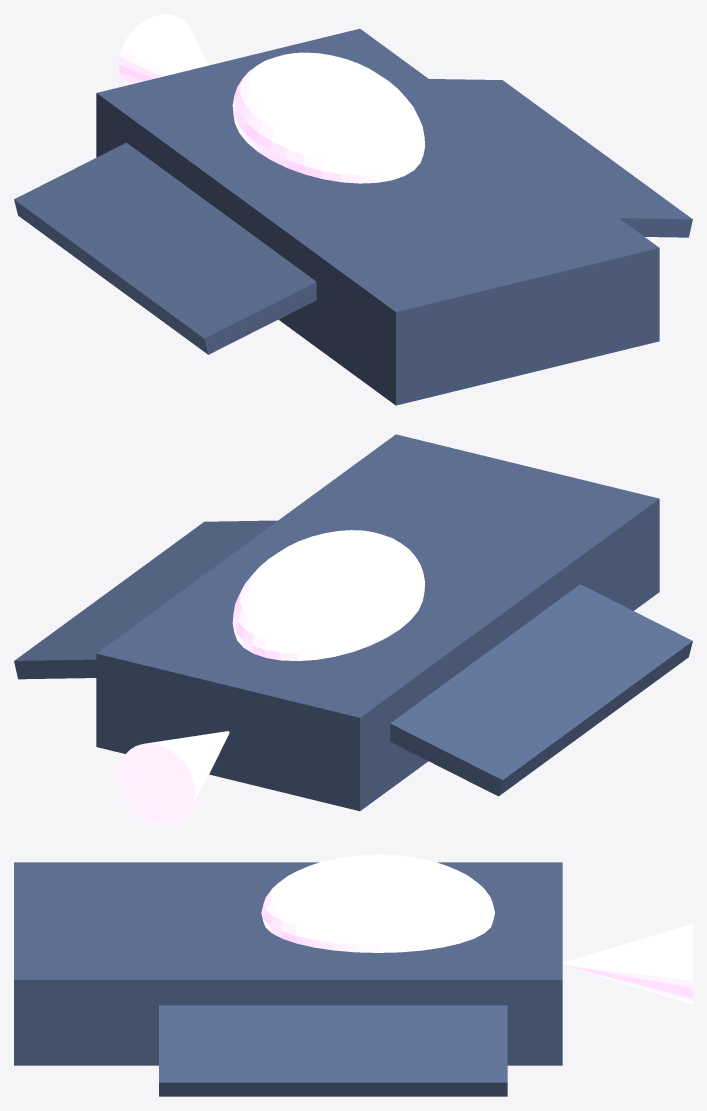
Rendered from striker_t2.glb.
The picture shows the model from 3 angles, top to bottom: view 1: azimuth 30°, elevation 25°; view 2: azimuth 150°, elevation 25°; view 3: azimuth 270°, elevation 25°; orthographic projection. The views are drawn at different scales.
Visible parts, largest first — view 1: Cube, Cube.002, Sphere, Cube.001, Cone; view 2: Cube, Cube.002, Sphere, Cube.001, Cone; view 3: Cube, Cube.001, Sphere, Cone, Cube.003.
Part boxes in pixels (bbox=[...]): Cube: bbox=[96, 28, 659, 405]; Cube.002: bbox=[14, 142, 316, 354]; Sphere: bbox=[232, 52, 424, 183]; Cube.001: bbox=[429, 79, 692, 237]; Cone: bbox=[119, 14, 208, 85]; Cube: bbox=[96, 434, 659, 811]; Cube.002: bbox=[390, 584, 692, 796]; Sphere: bbox=[232, 530, 425, 660]; Cube.001: bbox=[14, 520, 277, 679]; Cone: bbox=[119, 731, 229, 825]; Cube: bbox=[14, 862, 562, 1065]; Cube.001: bbox=[159, 1005, 507, 1096]; Sphere: bbox=[261, 854, 494, 952]; Cone: bbox=[562, 923, 692, 1004]; Cube.003: bbox=[488, 911, 535, 930].
Bounding box in the file's own units: 2.3 × 0.7 × 3.02.
